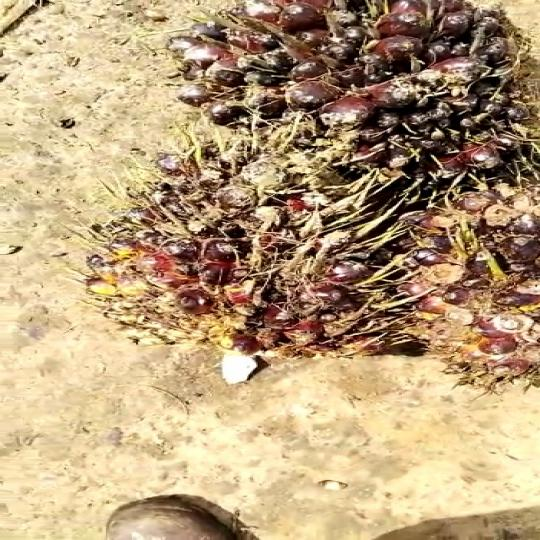kurang masak: (91, 120, 467, 367), (142, 0, 540, 181)
